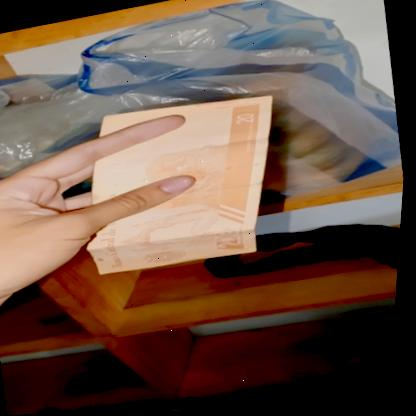twenty-back-vef: (65, 83, 300, 284)
